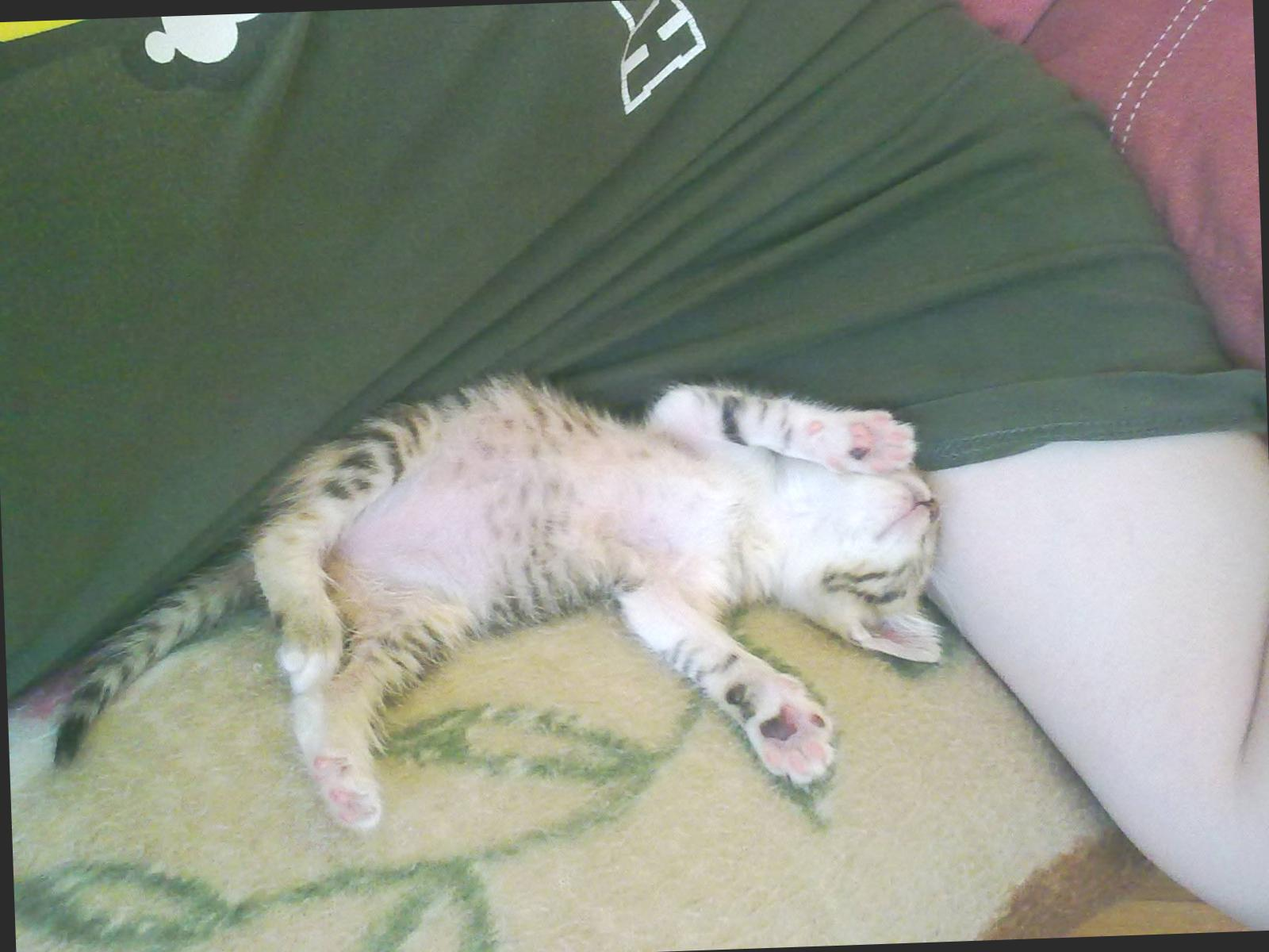macka: (32, 345, 948, 850)
